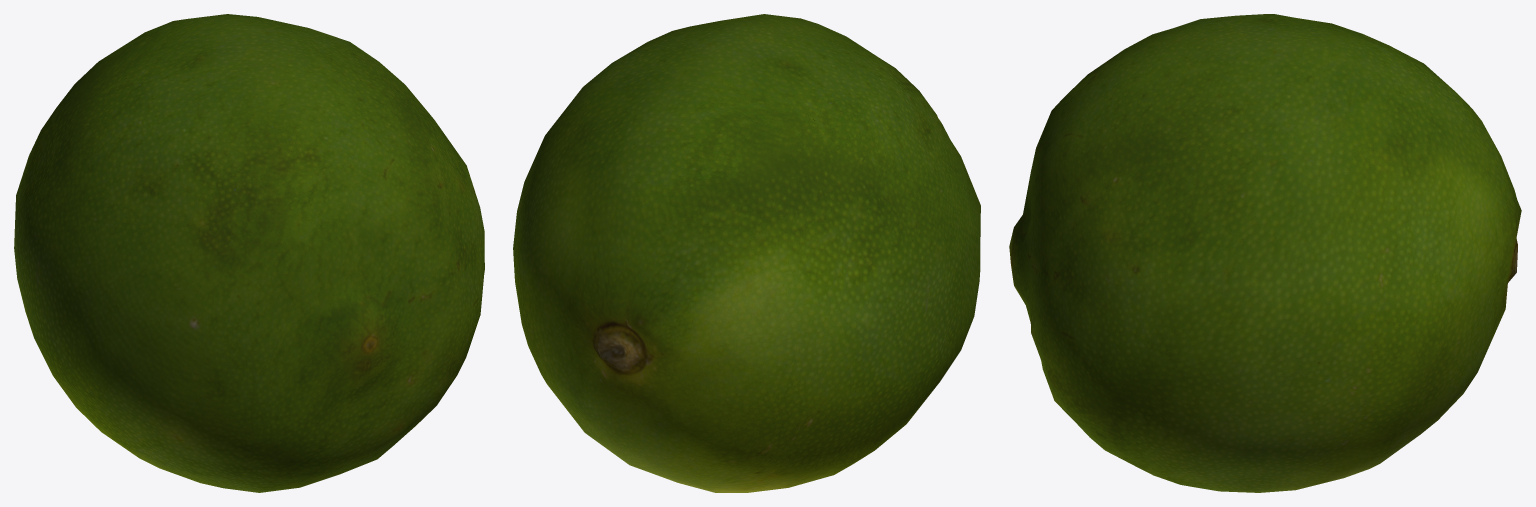
Rendered from persian lime.glb.
The picture shows the model from 3 angles, left to right: view 1: azimuth 30°, elevation 25°; view 2: azimuth 150°, elevation 25°; view 3: azimuth 270°, elevation 25°; orthographic projection. The views are drawn at different scales.
Parts seen in each view (by area): view 1: Object_2; view 2: Object_2; view 3: Object_2.
Part boxes in pixels (box(x1,y1,x2,y2)): Object_2: box(14, 14, 484, 492); Object_2: box(513, 14, 980, 492); Object_2: box(1009, 14, 1521, 492).
Bounding box in the file's own units: 0.0527 × 0.0544 × 0.0579.
Materials: 1 (1 with a texture image).
